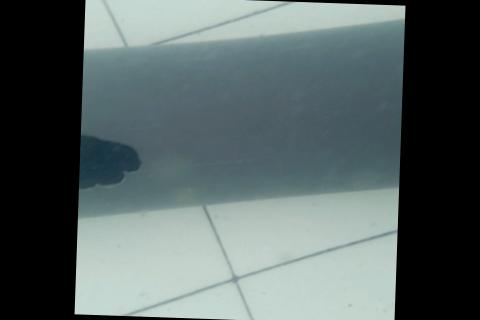kebocoran: (79, 131, 144, 192)
